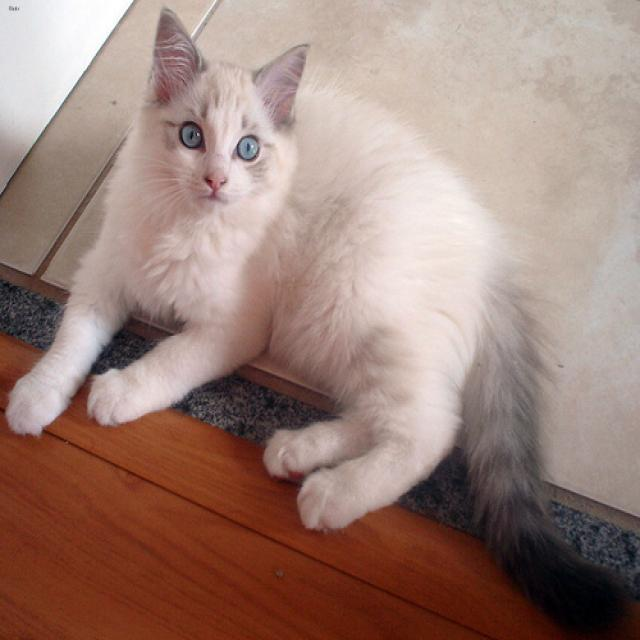Ragdoll: (146, 6, 306, 212)
